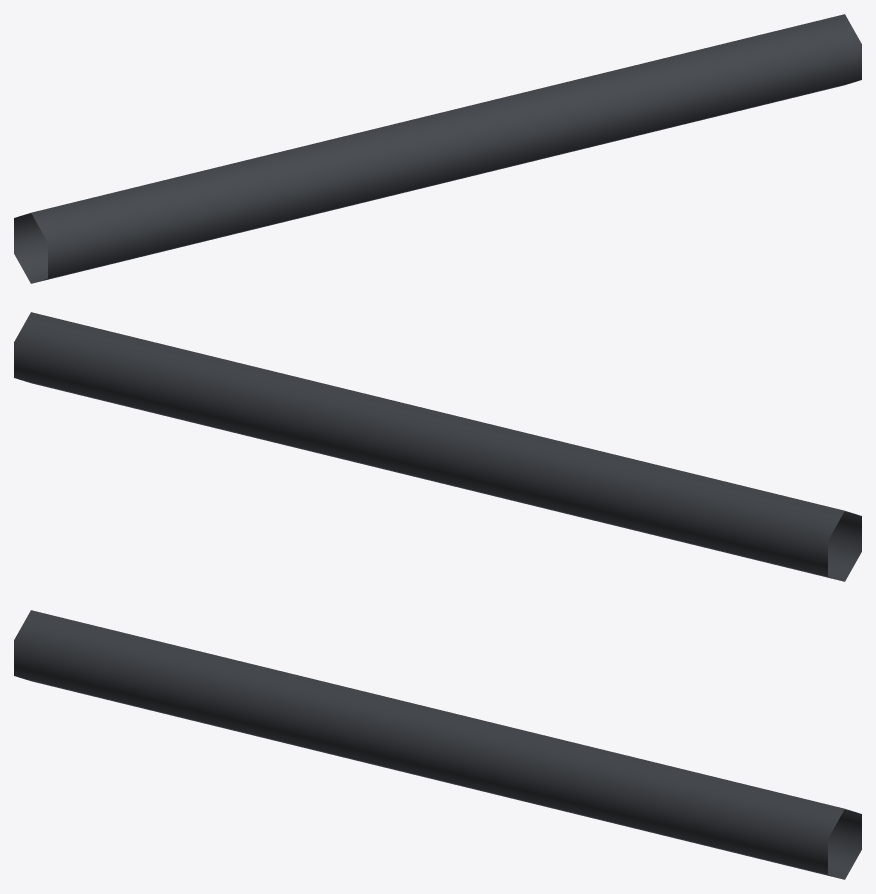
The model's file is SM_Cable_Spline_01.obj.
3 views of the same model, one above another, from view 1: azimuth 30°, elevation 25°; view 2: azimuth 150°, elevation 25°; view 3: azimuth 330°, elevation 25° (orthographic).
Parts seen in each view (by area): view 1: SM_Cable_Spline_01_Mat_SwatchOverlay_PolygonOffice_01_Inst; view 2: SM_Cable_Spline_01_Mat_SwatchOverlay_PolygonOffice_01_Inst; view 3: SM_Cable_Spline_01_Mat_SwatchOverlay_PolygonOffice_01_Inst.
Part boxes in pixels (x1,y1,x2,y2): SM_Cable_Spline_01_Mat_SwatchOverlay_PolygonOffice_01_Inst: [14, 14, 861, 283]; SM_Cable_Spline_01_Mat_SwatchOverlay_PolygonOffice_01_Inst: [14, 312, 861, 581]; SM_Cable_Spline_01_Mat_SwatchOverlay_PolygonOffice_01_Inst: [14, 610, 861, 879].
Size of the model in its own units: 1 by 0.0835 by 0.0723.
Materials: 1 (1 with a texture image).
